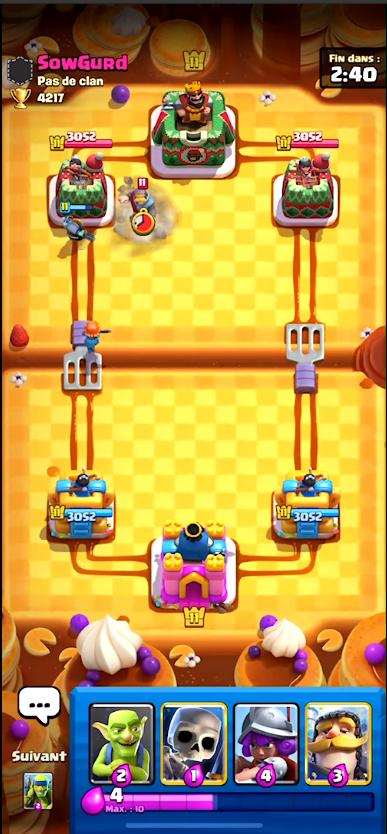chevalier: (122, 176, 162, 214)
mini_PEKKA: (57, 204, 99, 245)
valkyrie: (80, 320, 111, 351)
